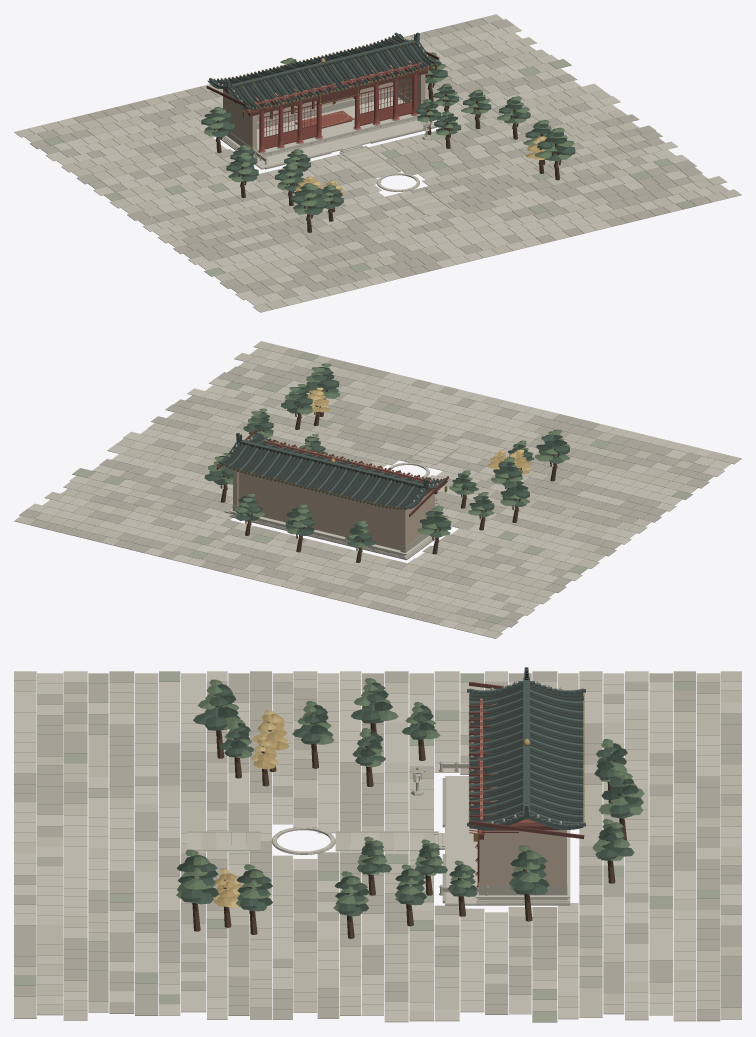
File: court.glb
3 renders of one model, top to bottom at view 1: azimuth 30°, elevation 25°; view 2: azimuth 150°, elevation 25°; view 3: azimuth 270°, elevation 25°, orthographic. The views are drawn at different scales.
Parts seen in each view (by area): view 1: paving__courtStoneDark, paving__courtStoneLight, paving__courtStone, platform__courtStoneLight, trees_foliage__courtPine, roof_deck__courtTile, trees_foliage__courtPineLight, roof_tiles__courtTile, trees_foliage__courtPineDark, walls__courtPlaster, paving__courtMoss, columns__courtWood (+9 smaller); view 2: paving__courtStoneDark, paving__courtStoneLight, paving__courtStone, walls__courtPlaster, trees_foliage__courtPine, trees_foliage__courtPineLight, roof_deck__courtTile, trees_foliage__courtPineDark, roof_tiles__courtTile, paving__courtMoss, roof_tiles__courtTileLight, trees_trunk__courtTrunk (+4 smaller); view 3: paving__courtStoneDark, paving__courtStoneLight, paving__courtStone, roof_tiles__courtTile, trees_foliage__courtPine, trees_foliage__courtPineLight, trees_foliage__courtPineDark, roof_deck__courtTile, paving__courtMoss, roof_tiles__courtTileLight, walls__courtPlaster, platform__courtStoneLight (+9 smaller).
Part boxes in pixels (bbox=[...]): paving__courtStoneDark: bbox=[29, 18, 711, 298]; paving__courtStoneLight: bbox=[28, 25, 714, 305]; paving__courtStone: bbox=[14, 14, 741, 312]; platform__courtStoneLight: bbox=[222, 96, 434, 168]; trees_foliage__courtPine: bbox=[201, 61, 575, 214]; roof_deck__courtTile: bbox=[207, 33, 438, 108]; trees_foliage__courtPineLight: bbox=[204, 52, 574, 214]; roof_tiles__courtTile: bbox=[213, 35, 430, 108]; trees_foliage__courtPineDark: bbox=[201, 57, 575, 209]; walls__courtPlaster: bbox=[223, 74, 425, 148]; paving__courtMoss: bbox=[43, 59, 696, 276]; columns__courtWood: bbox=[258, 73, 417, 152]; paving__courtStoneDark: bbox=[19, 348, 713, 629]; paving__courtStoneLight: bbox=[27, 351, 731, 635]; paving__courtStone: bbox=[14, 341, 741, 638]; walls__courtPlaster: bbox=[233, 469, 434, 550]; trees_foliage__courtPine: bbox=[204, 369, 569, 546]; trees_foliage__courtPineLight: bbox=[208, 363, 569, 547]; roof_deck__courtTile: bbox=[217, 434, 448, 508]; trees_foliage__courtPineDark: bbox=[209, 366, 569, 542]; roof_tiles__courtTile: bbox=[225, 435, 441, 508]; paving__courtMoss: bbox=[72, 352, 692, 623]; roof_tiles__courtTileLight: bbox=[228, 437, 436, 508]; trees_trunk__courtTrunk: bbox=[220, 389, 559, 562]; paving__courtStoneDark: bbox=[14, 671, 741, 1021]; paving__courtStoneLight: bbox=[14, 671, 741, 1022]; paving__courtStone: bbox=[14, 671, 741, 1021]; roof_tiles__courtTile: bbox=[469, 684, 583, 828]; trees_foliage__courtPine: bbox=[177, 685, 643, 916]; trees_foliage__courtPineLight: bbox=[176, 678, 644, 911]; trees_foliage__courtPineDark: bbox=[177, 682, 639, 914]; roof_deck__courtTile: bbox=[469, 683, 583, 829]; paving__courtMoss: bbox=[14, 671, 720, 1022]; roof_tiles__courtTileLight: bbox=[469, 683, 583, 823]; walls__courtPlaster: bbox=[479, 830, 566, 886]; platform__courtStoneLight: bbox=[445, 776, 570, 903].
Size of the model in its own units: 70.08 by 9.93 by 61.43.
